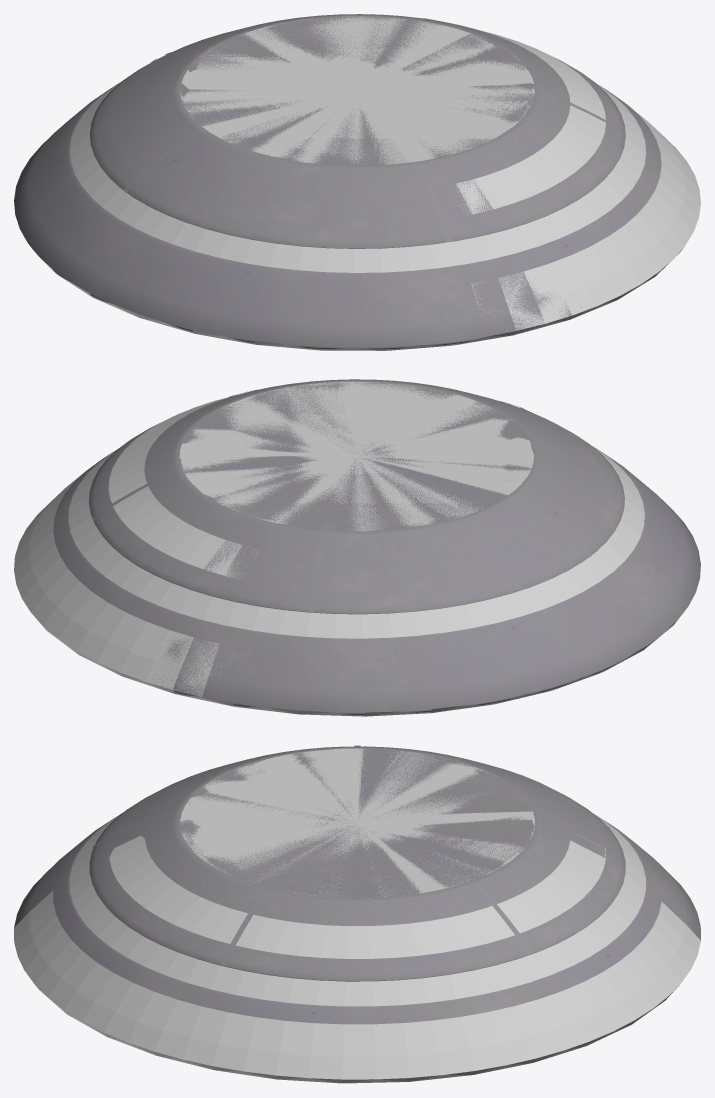
The model's file is SM_Buliding06c.fbx.
The picture shows the model from 3 angles, top to bottom: view 1: azimuth 30°, elevation 25°; view 2: azimuth 150°, elevation 25°; view 3: azimuth 270°, elevation 25°; orthographic projection.
Visible parts, largest first — view 1: SM_Buliding06c, SM_Buliding06c_ConvexHulls; view 2: SM_Buliding06c, SM_Buliding06c_ConvexHulls; view 3: SM_Buliding06c_ConvexHulls, SM_Buliding06c.
Part boxes in pixels (<box>): SM_Buliding06c: <box>14,14,661,350</box>; SM_Buliding06c_ConvexHulls: <box>39,16,700,350</box>; SM_Buliding06c: <box>53,379,700,716</box>; SM_Buliding06c_ConvexHulls: <box>14,381,676,716</box>; SM_Buliding06c_ConvexHulls: <box>14,748,700,1083</box>; SM_Buliding06c: <box>14,745,700,1024</box>.
Bounding box in the file's own units: 799 × 799 × 150.
4 materials, 3 textured.
